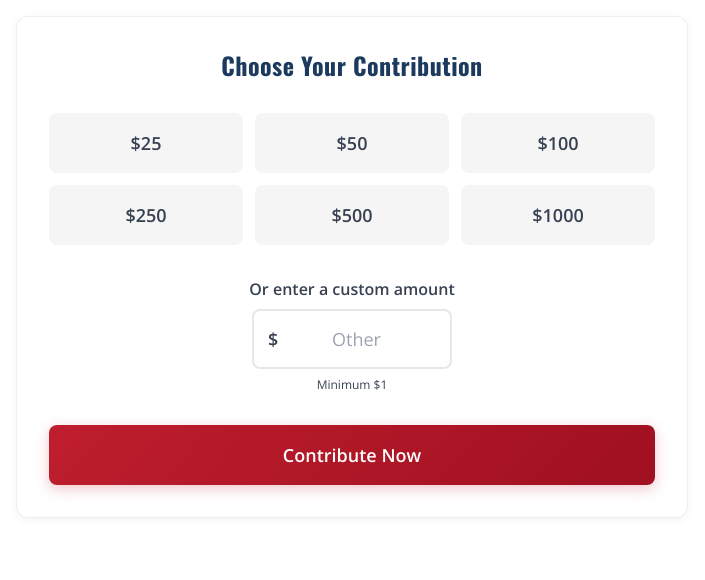
DonateDynamic › UI Behavior › shows selected amount when preset clicked
Click the button "$250".
click(146, 215)  # box [49, 185, 243, 245]
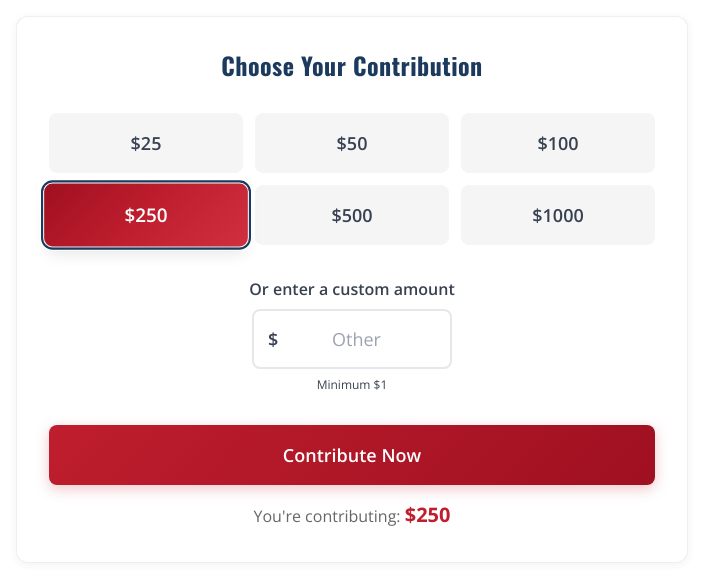
Check: the text "You're contributing: $250" is shown, box [254, 501, 450, 528]
